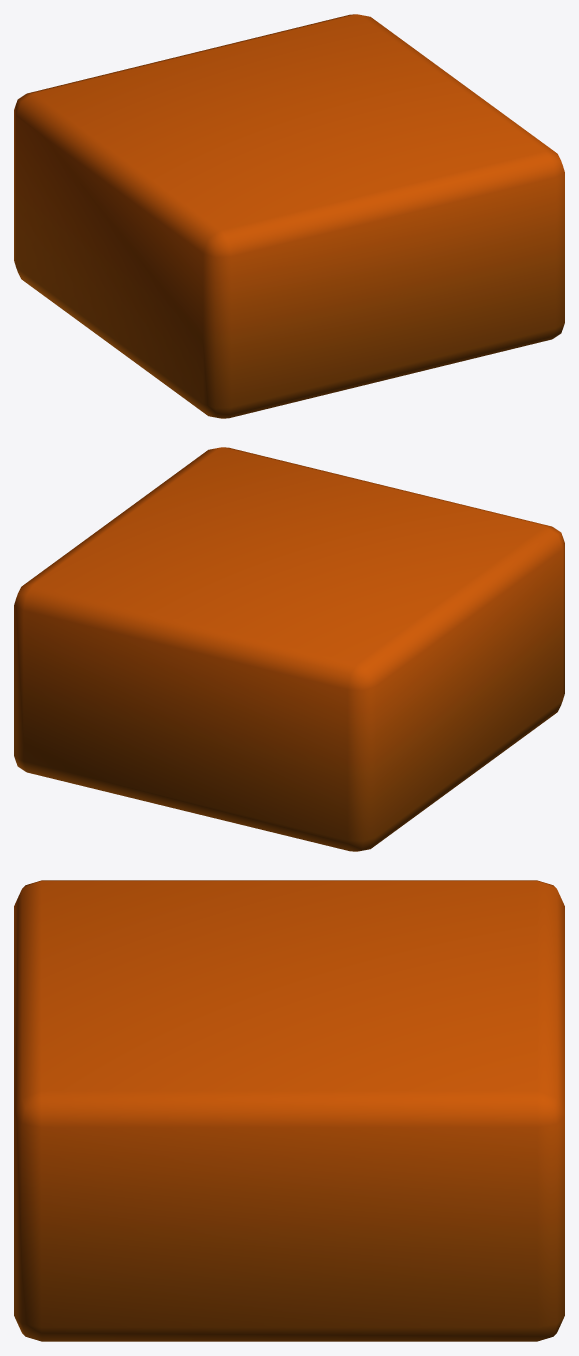
File: 3D_Tile_Ground_04A.fbx
The picture shows the model from 3 angles, top to bottom: view 1: azimuth 30°, elevation 25°; view 2: azimuth 150°, elevation 25°; view 3: azimuth 270°, elevation 25°; orthographic projection. The views are drawn at different scales.
Visible parts, largest first — view 1: 3D_Tile_Ground_04A; view 2: 3D_Tile_Ground_04A; view 3: 3D_Tile_Ground_04A.
Part boxes in pixels (x1,y1,x2,y2): 3D_Tile_Ground_04A: [14, 14, 564, 418]; 3D_Tile_Ground_04A: [14, 447, 564, 851]; 3D_Tile_Ground_04A: [14, 880, 564, 1341].
Size of the model in its own units: 200 by 100 by 200.
